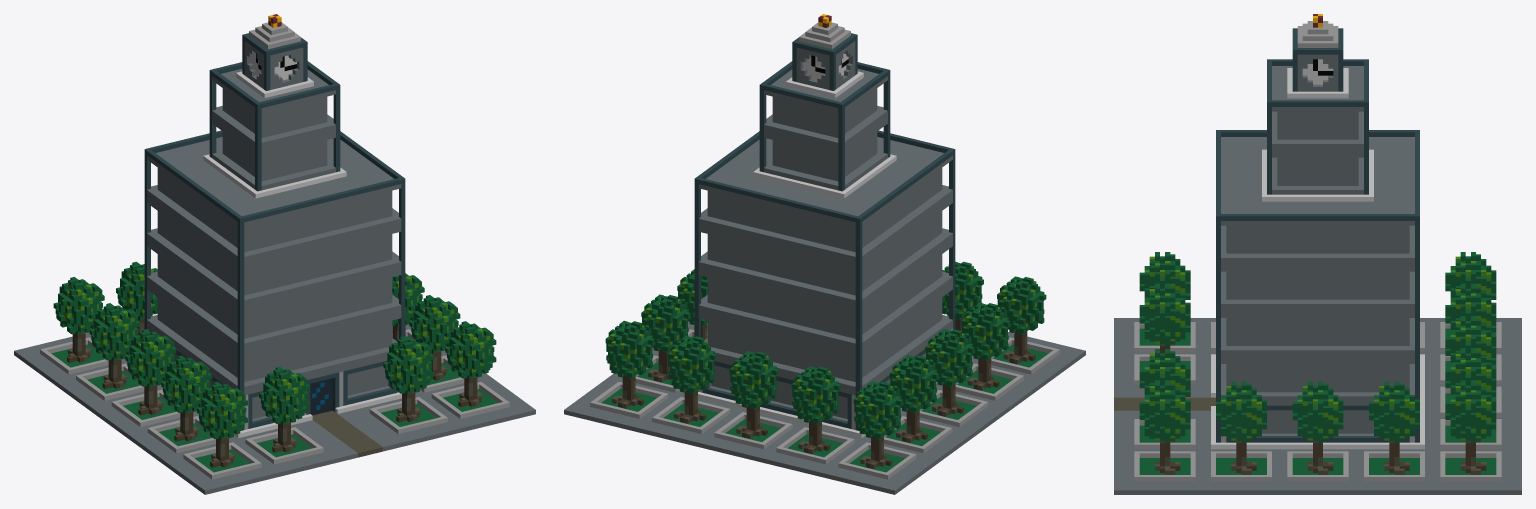
Rendered from building_big_2_overtile.obj.
3 views of the same model, side by side, from view 1: azimuth 30°, elevation 25°; view 2: azimuth 150°, elevation 25°; view 3: azimuth 270°, elevation 25° (orthographic). The views are drawn at different scales.
Bounding box in the file's own units: 8 × 8.5 × 8.
Materials: 1 (1 with a texture image).
